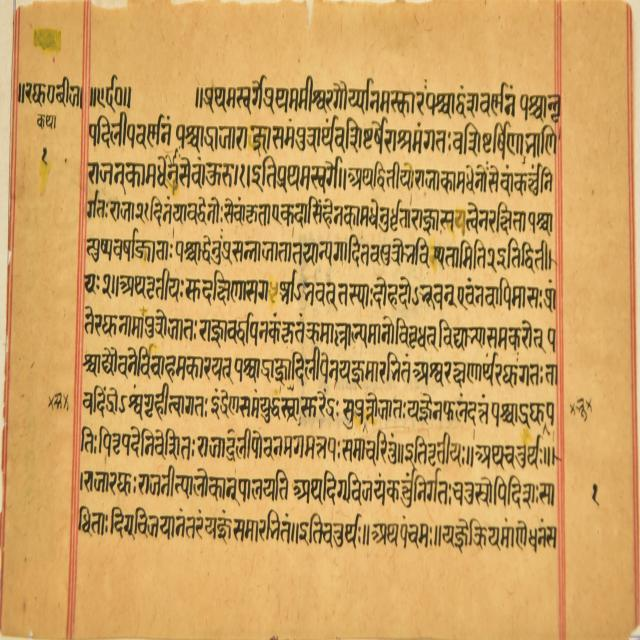text_paragraph: (0, 3, 638, 636)
